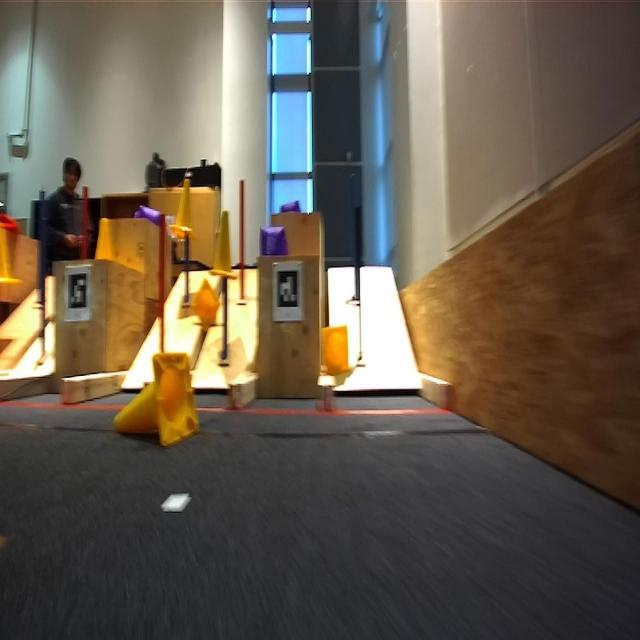frc_cone: (118, 351, 202, 443), (206, 208, 238, 281), (320, 317, 350, 378), (172, 178, 198, 242), (192, 278, 220, 334), (0, 214, 22, 284), (94, 217, 118, 264)
frc_cube: (262, 227, 290, 262), (136, 204, 162, 224), (280, 200, 302, 215)
